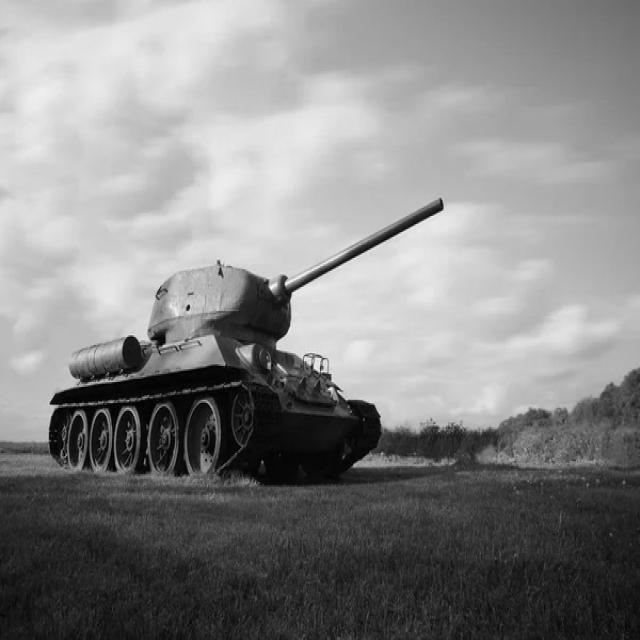Tank: (44, 188, 448, 479)
